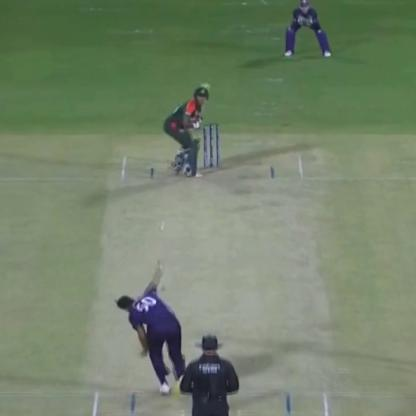ball: (158, 226, 166, 232), (160, 221, 166, 226)
pitch: (89, 154, 336, 416)
